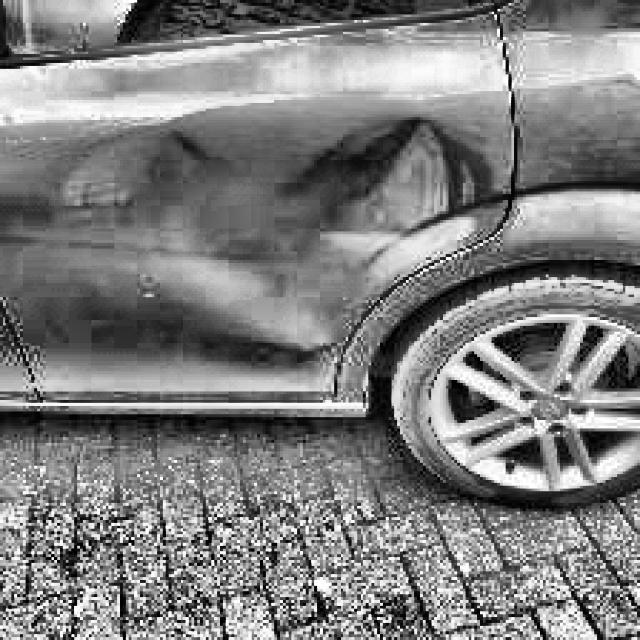door_dent: (152, 122, 473, 351)
